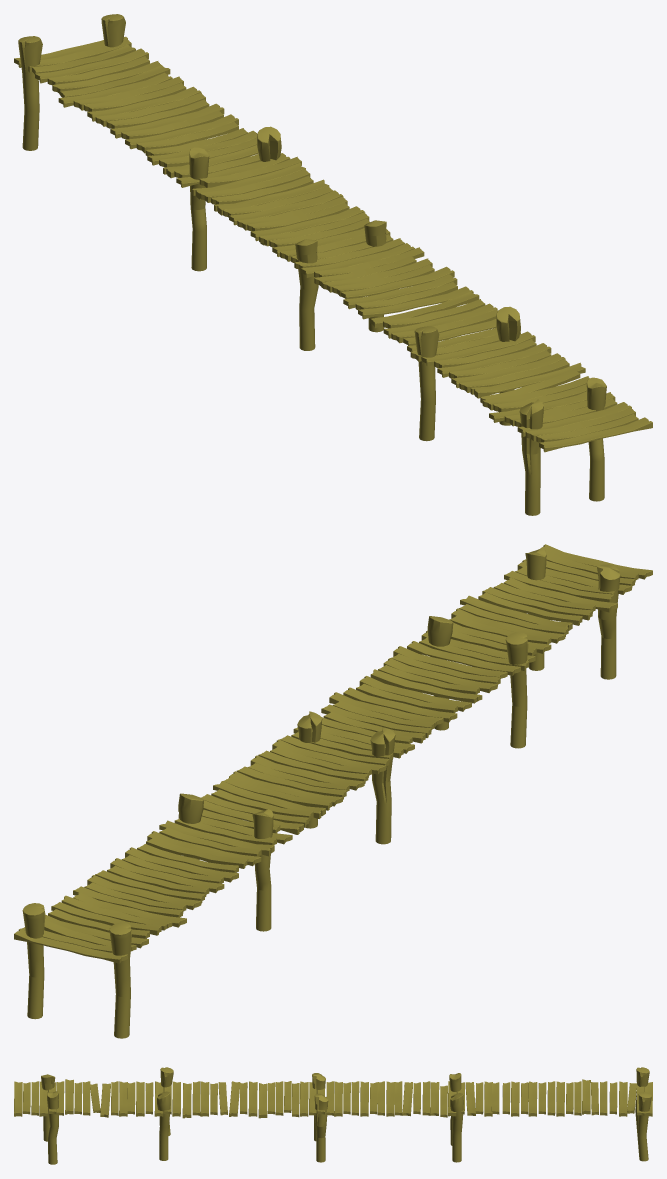
The model's file is obj_dock_uv_norope.fbx.
3 renders of one model, top to bottom at view 1: azimuth 30°, elevation 25°; view 2: azimuth 150°, elevation 25°; view 3: azimuth 270°, elevation 25°, orthographic. The views are drawn at different scales.
Visible parts, largest first — view 1: obj_dock_uv_norope; view 2: obj_dock_uv_norope; view 3: obj_dock_uv_norope.
Part boxes in pixels (<box>): obj_dock_uv_norope: <box>14,14,652,515</box>; obj_dock_uv_norope: <box>14,544,652,1038</box>; obj_dock_uv_norope: <box>14,1067,652,1164</box>.
Size of the model in its own units: 7.75 by 7.24 by 58.61.
